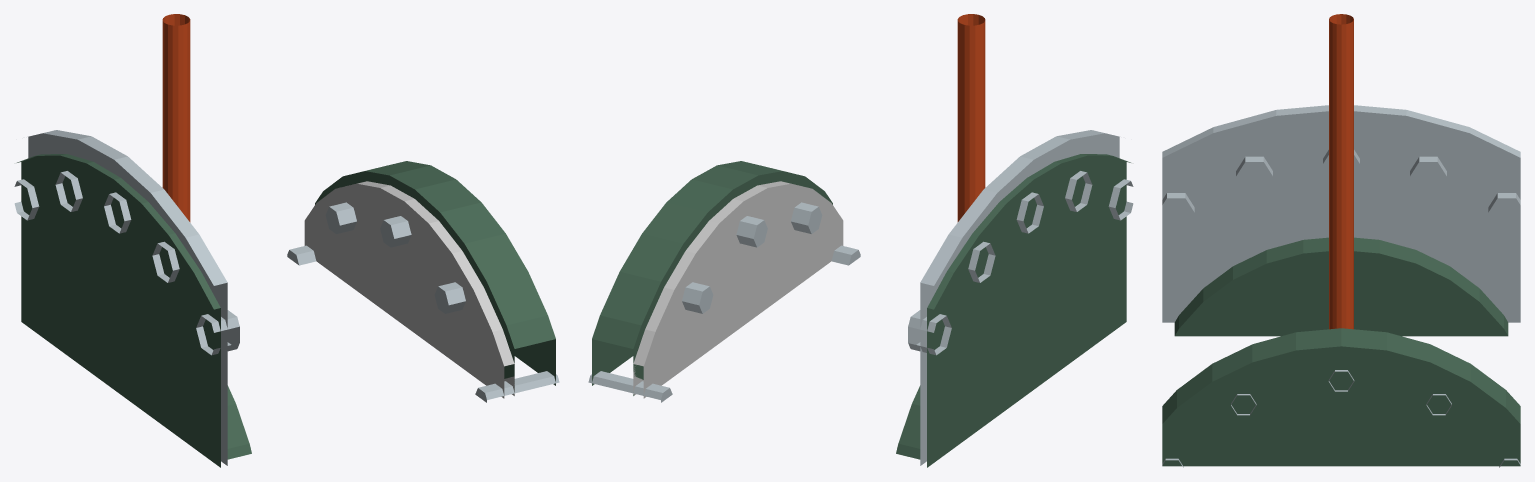
Rendered from cell_62.obj.
3 views of the same model, side by side, from view 1: azimuth 30°, elevation 25°; view 2: azimuth 150°, elevation 25°; view 3: azimuth 270°, elevation 25° (orthographic). The views are drawn at different scales.
Size of the model in its own units: 1 by 1 by 1.
